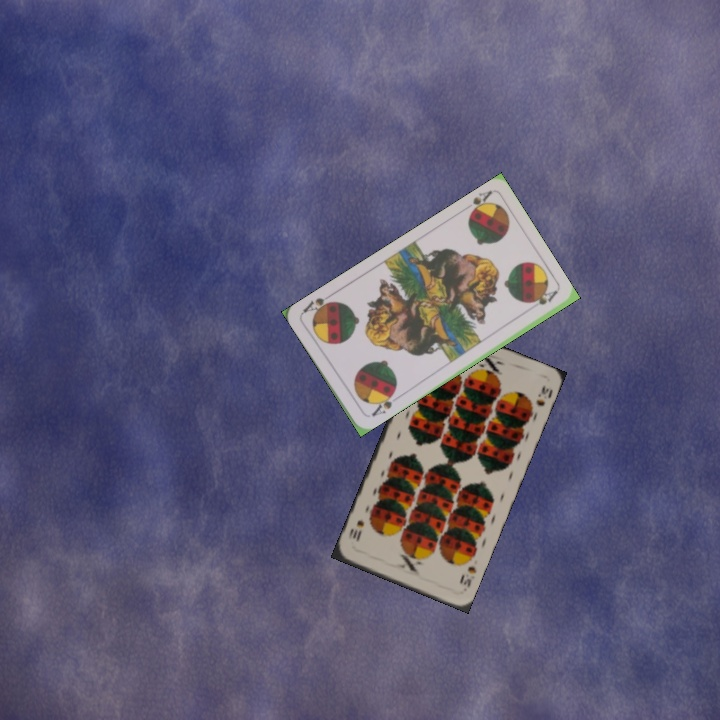S10: (455, 562, 479, 590)
SA: (367, 388, 401, 419), (464, 186, 495, 220)
